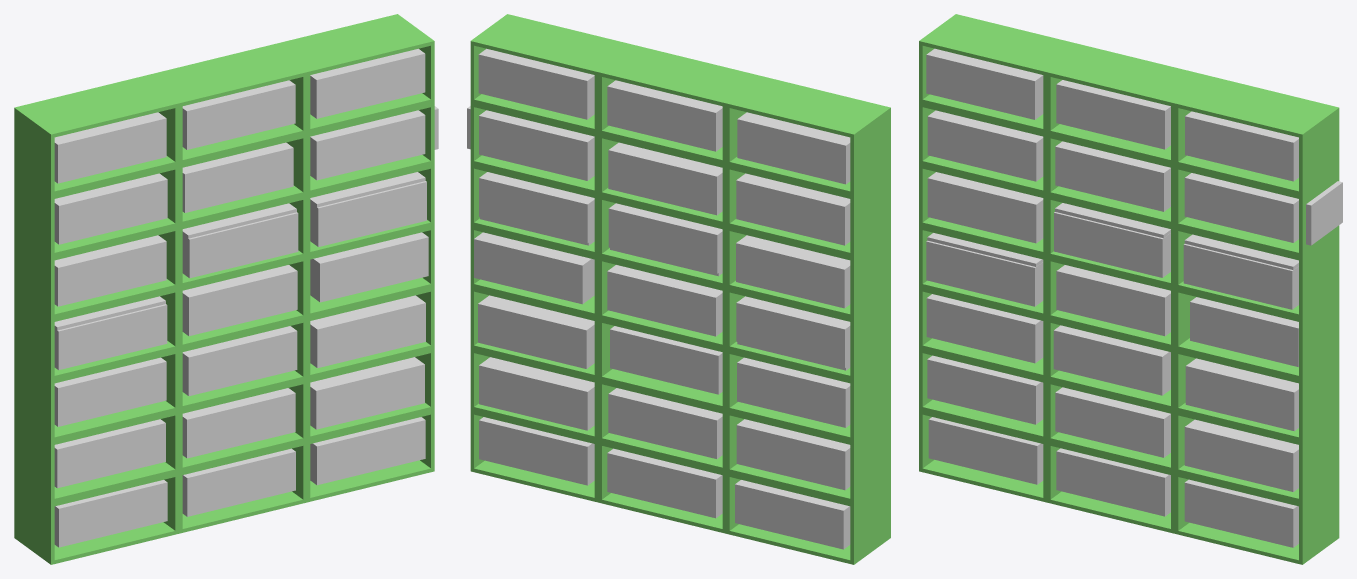
The model's file is binsgrouped.glb.
The picture shows the model from 3 angles, left to right: view 1: azimuth 30°, elevation 25°; view 2: azimuth 150°, elevation 25°; view 3: azimuth 330°, elevation 25°; orthographic projection.
Parts seen in each view (by area): view 1: Cube.012, Cube.020, Cube.023, Cube.011, Cube.019, Cube.006, Cube.007, Cube.008, Cube.018, Cube.002, Cube.003, Cube.021 (+13 smaller); view 2: Cube.012, Cube.020, Cube.023, Cube.019, Cube.007, Cube.005, Cube.006, Cube.011, Cube.008, Cube.010, Cube.009, Cube.001 (+10 smaller); view 3: Cube.012, Cube.023, Cube.020, Cube.008, Cube.007, Cube.006, Cube.011, Cube.018, Cube.005, Cube.021, Cube.002, Cube.013 (+14 smaller).
Boxes of the visible parts, bbox=[...] form: Cube.012: bbox=[14, 14, 434, 564]; Cube.020: bbox=[310, 295, 425, 368]; Cube.023: bbox=[310, 357, 424, 429]; Cube.011: bbox=[182, 265, 297, 335]; Cube.019: bbox=[310, 232, 428, 302]; Cube.006: bbox=[54, 173, 167, 244]; Cube.007: bbox=[54, 235, 166, 306]; Cube.008: bbox=[54, 112, 166, 183]; Cube.018: bbox=[182, 326, 297, 395]; Cube.002: bbox=[310, 110, 425, 180]; Cube.003: bbox=[310, 48, 425, 118]; Cube.021: bbox=[182, 388, 295, 458]; Cube.012: bbox=[470, 14, 890, 564]; Cube.020: bbox=[478, 295, 594, 368]; Cube.023: bbox=[479, 357, 594, 430]; Cube.019: bbox=[474, 232, 594, 304]; Cube.007: bbox=[736, 235, 850, 308]; Cube.005: bbox=[608, 142, 722, 215]; Cube.006: bbox=[736, 173, 850, 245]; Cube.011: bbox=[607, 265, 722, 336]; Cube.008: bbox=[737, 112, 850, 184]; Cube.010: bbox=[736, 296, 850, 367]; Cube.009: bbox=[607, 80, 722, 151]; Cube.001: bbox=[479, 172, 594, 243]; Cube.012: bbox=[919, 14, 1339, 564]; Cube.023: bbox=[1184, 419, 1298, 491]; Cube.020: bbox=[1185, 358, 1298, 431]; Cube.008: bbox=[926, 48, 1043, 119]; Cube.007: bbox=[927, 172, 1043, 243]; Cube.006: bbox=[927, 110, 1043, 181]; Cube.011: bbox=[1056, 265, 1170, 336]; Cube.018: bbox=[1053, 325, 1170, 395]; Cube.005: bbox=[1055, 141, 1170, 211]; Cube.021: bbox=[1055, 387, 1170, 457]; Cube.002: bbox=[1184, 173, 1298, 242]; Cube.013: bbox=[926, 294, 1043, 363].
Size of the model in its own units: 6.1 by 6.43 by 1.1.
